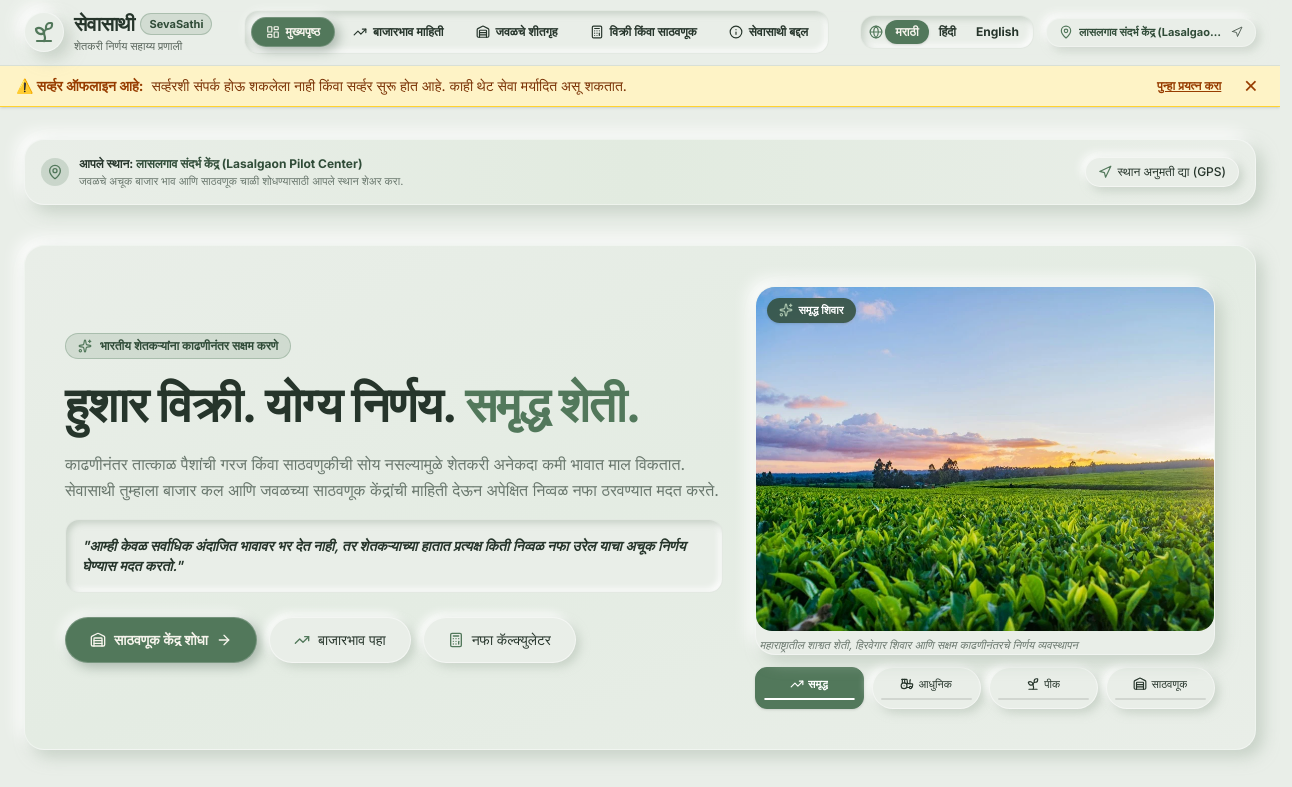
Test: App Root Shell › displays backend offline banner when health check reports unhealthy, allows dismissal
Expected: the message is shown, x1=0 y1=66 x2=1280 y2=106
Click the button "✕": (1251, 86) x1=1237 y1=74 x2=1264 y2=98
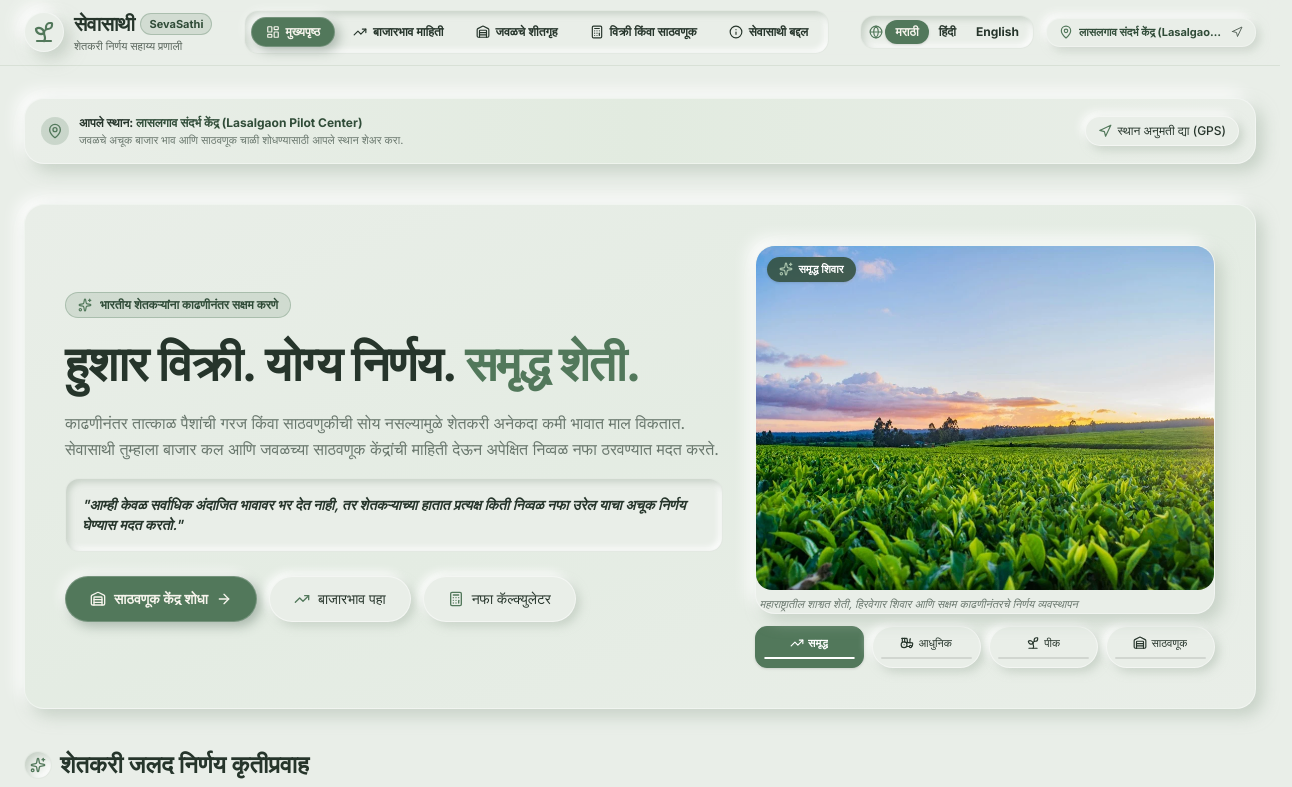
Expected: the message is gone
